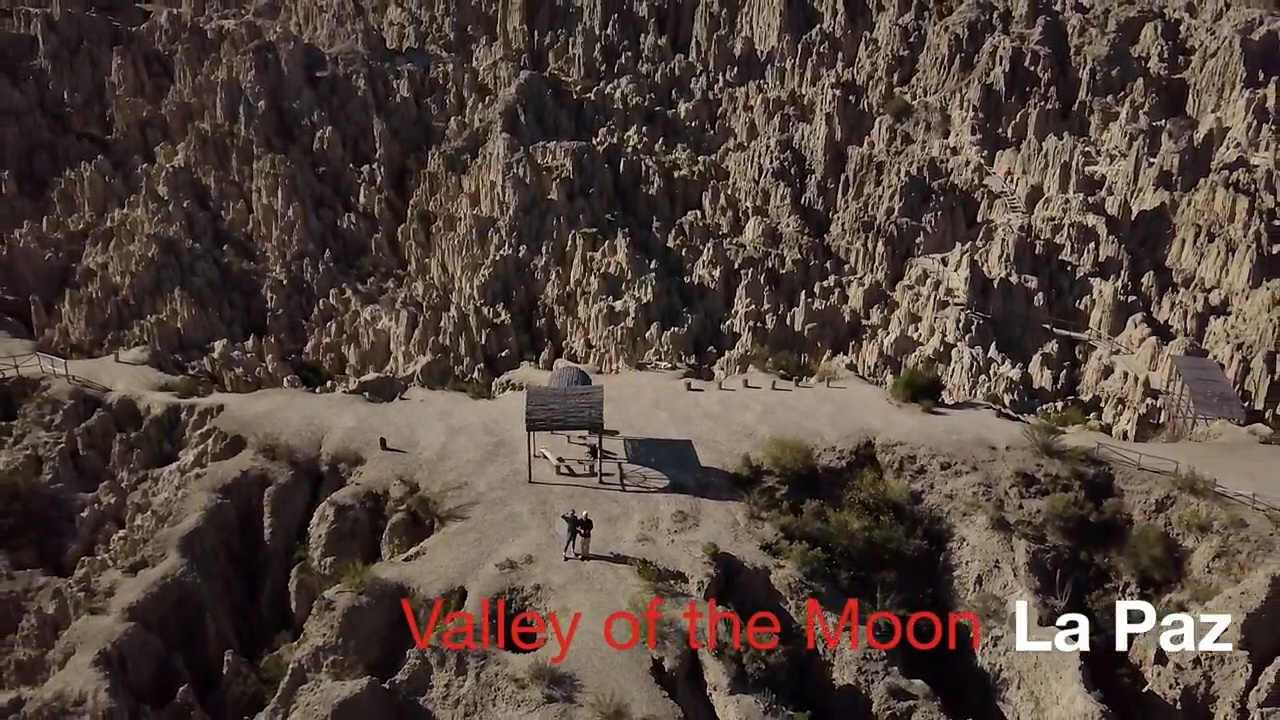insan: (559, 509, 587, 567), (578, 506, 596, 561)
